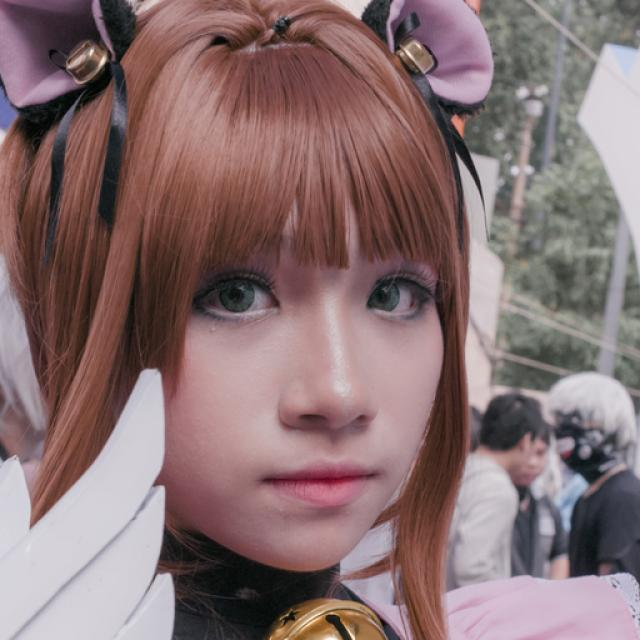neutral: (165, 188, 448, 573)
